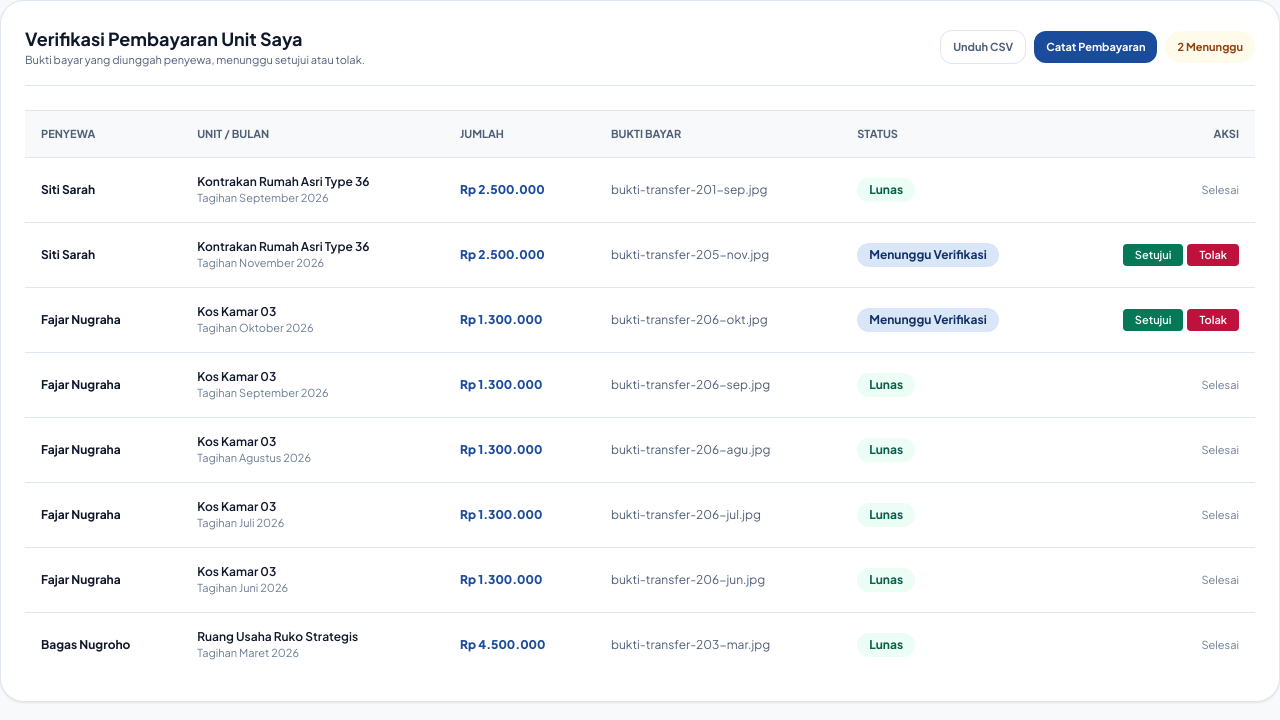
OwnerPaymentsPage › menyetujui bukti bayar yang menunggu verifikasi
Click the button "Setujui" in the row of "November 2026" at point(1153, 255), box [1123,244,1183,266]
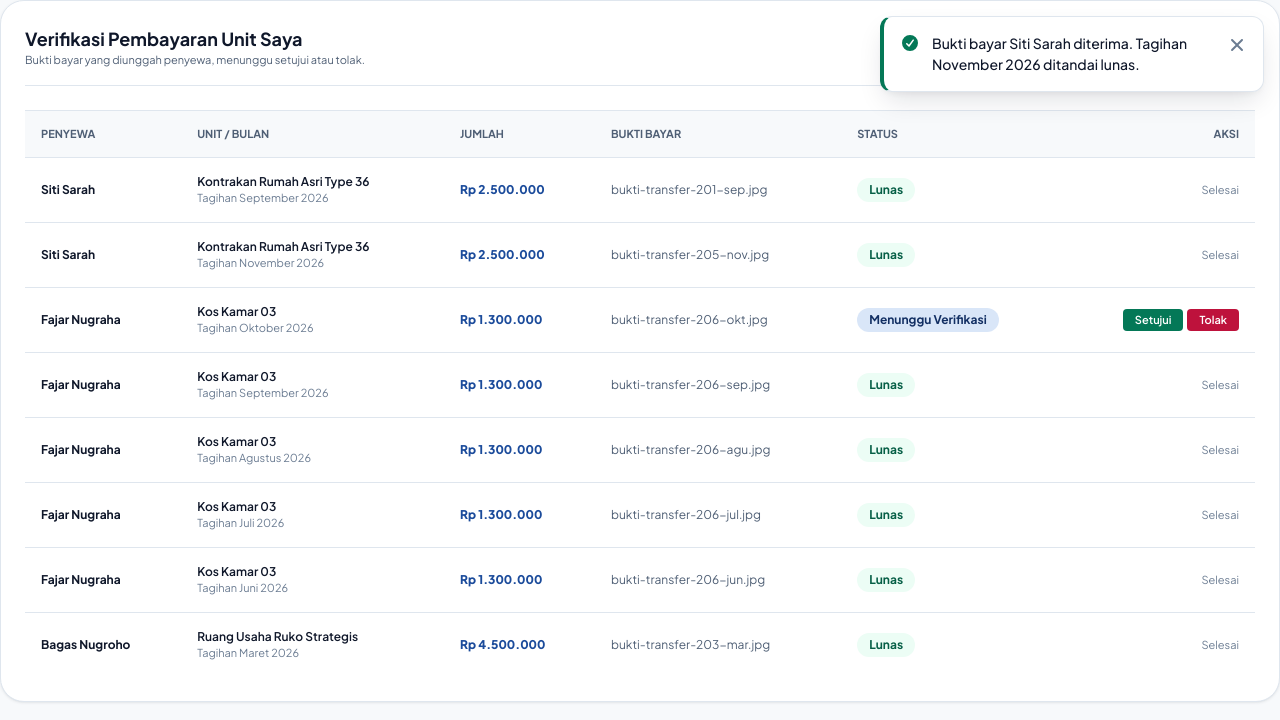
Check: the button "Unduh CSV" is shown, box [942,30,1028,64]
Check: the text "Lunas" next to "bukti-transfer-205-nov.jpg" is shown, box [869,247,903,262]
Check: the text "Tagihan November 2026 ditandai lunas" is shown, box [932,34,1187,73]
